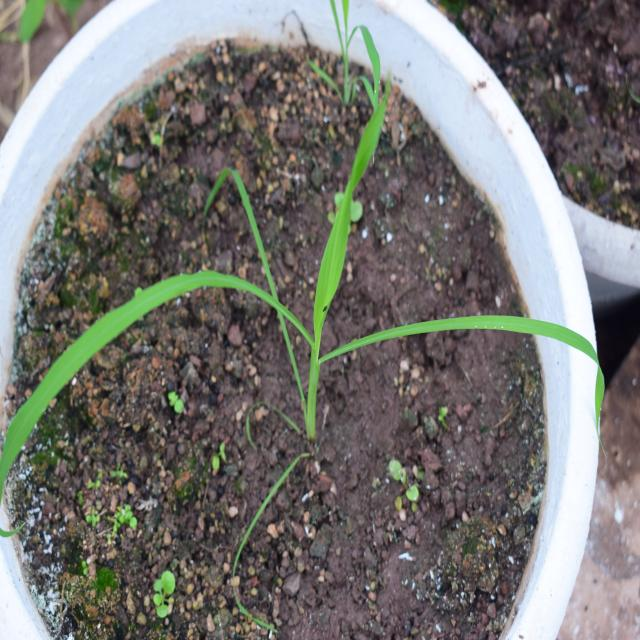barnyard_grass: (0, 150, 610, 492)
